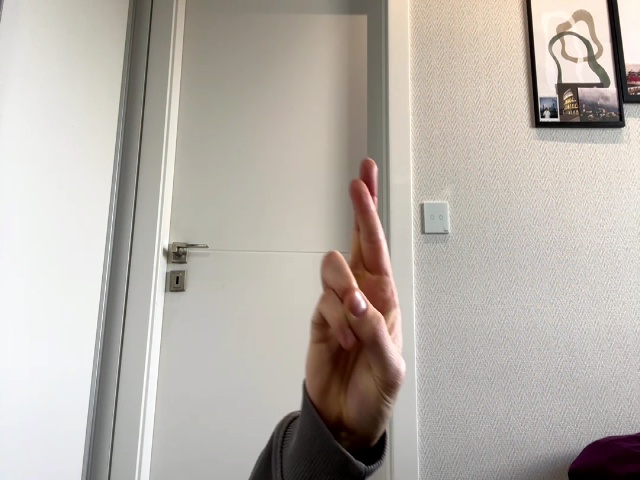R: (306, 158, 406, 426)
